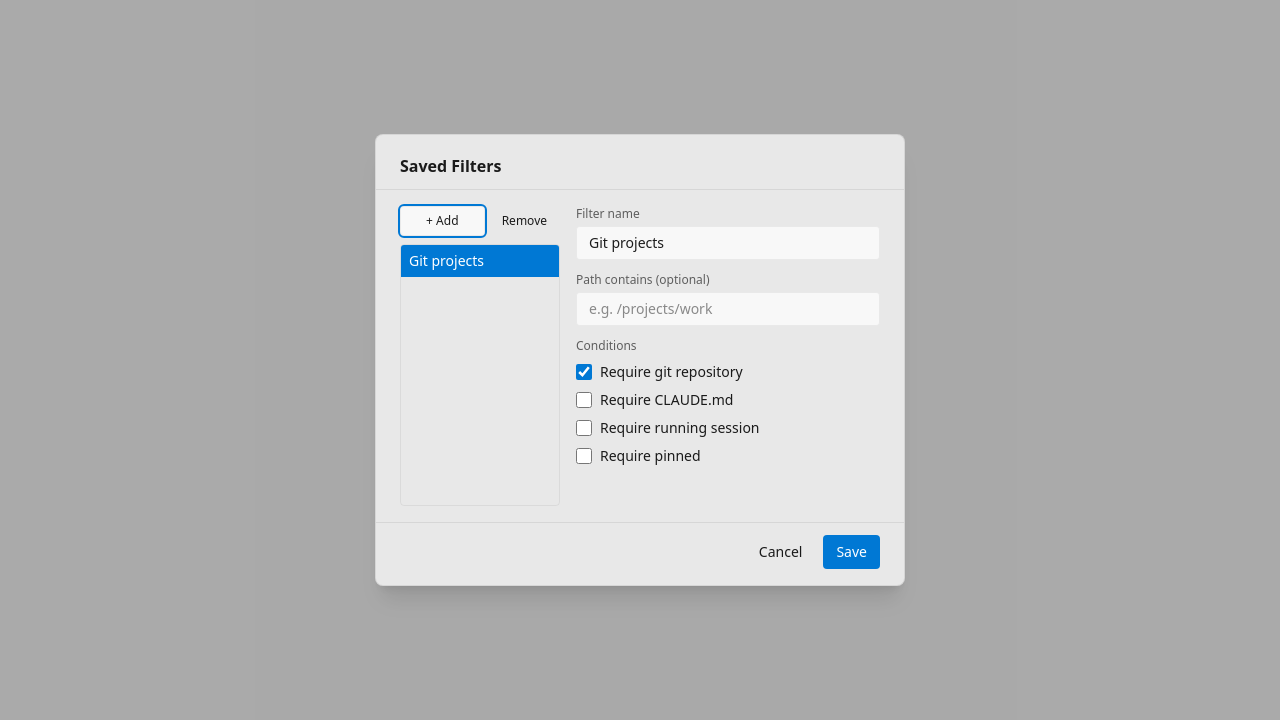
it: SavedFilterDialog › blocks save when filter name is empty
This screenshot has width=1280, height=720.
Expected: the option "Git projects" is shown, [401,245,559,277]
Click the field labelled "Filter name".
click(728, 243)  # box [576,226,880,260]
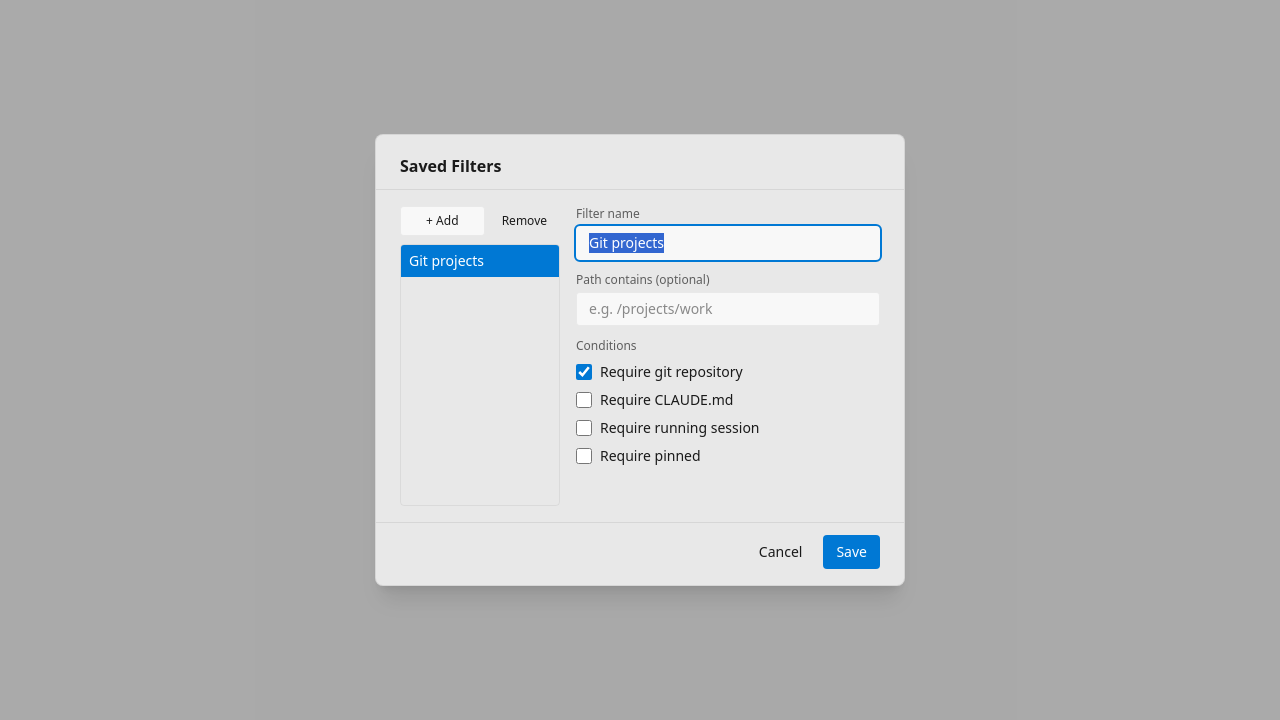
Press Backspace
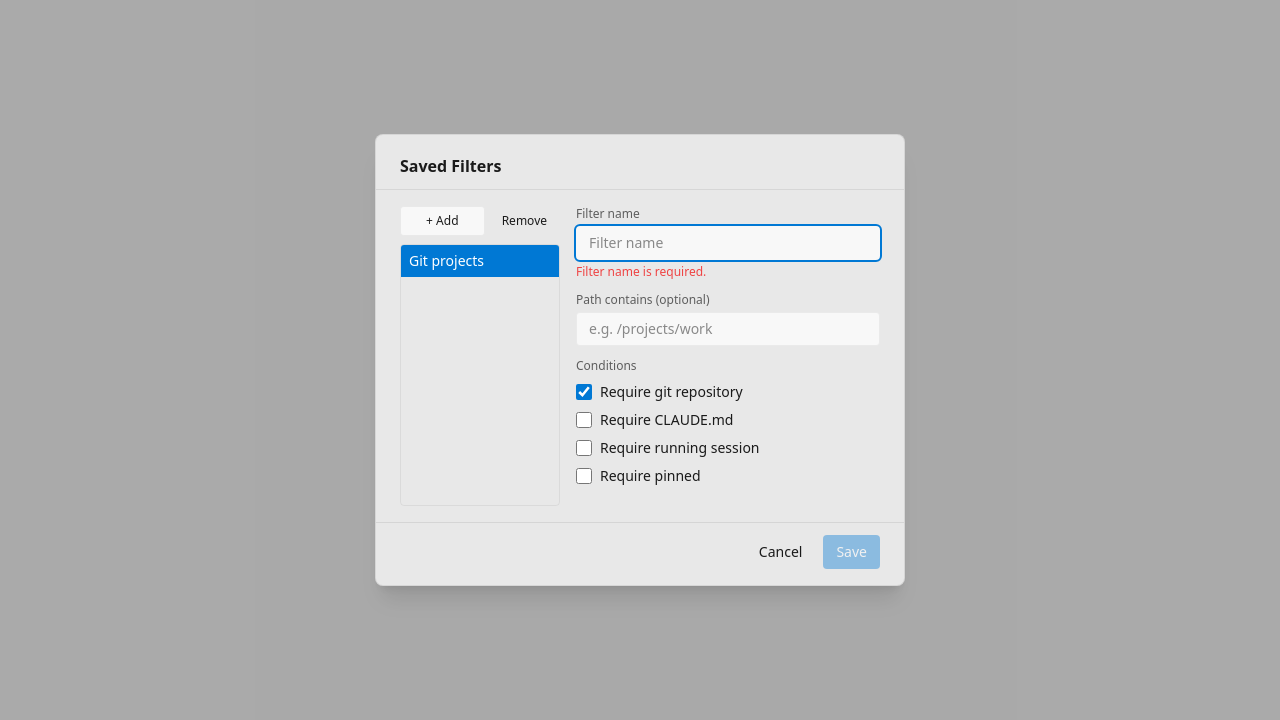
Result: the button "Save" is disabled at [823,535,880,569]
